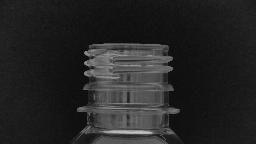No Cap: (73, 38, 183, 118)
